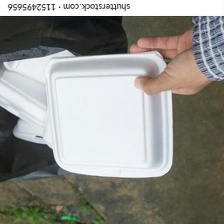foam_box: (38, 46, 179, 181), (0, 45, 80, 87), (0, 66, 54, 128), (10, 114, 56, 146)
